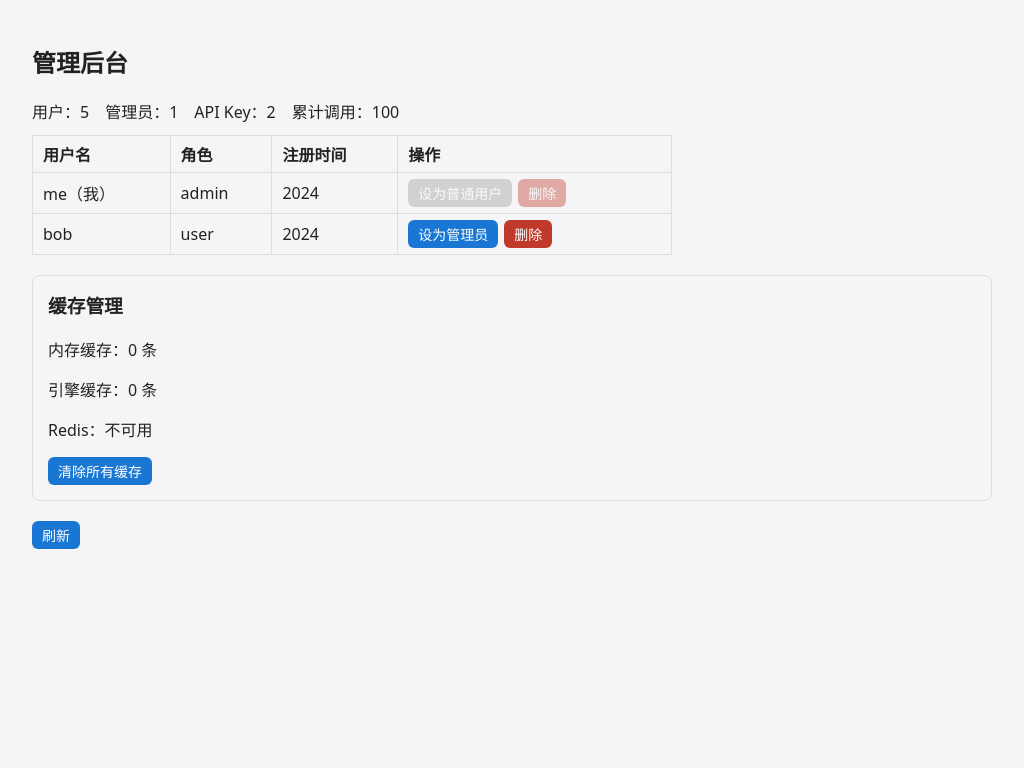
Test: Admin › 修改角色失败时显示错误
Click the button "设为管理员": (453, 234) [408, 220, 498, 248]
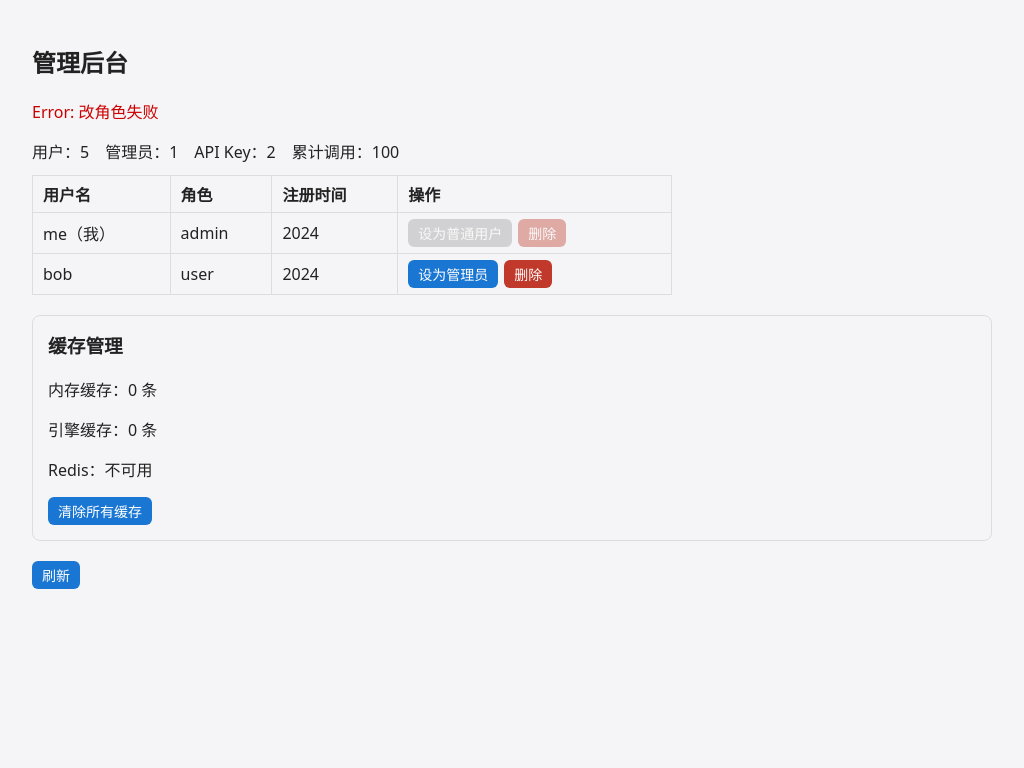
Expected: the text "改角色失败" is shown, [32, 101, 158, 123]
